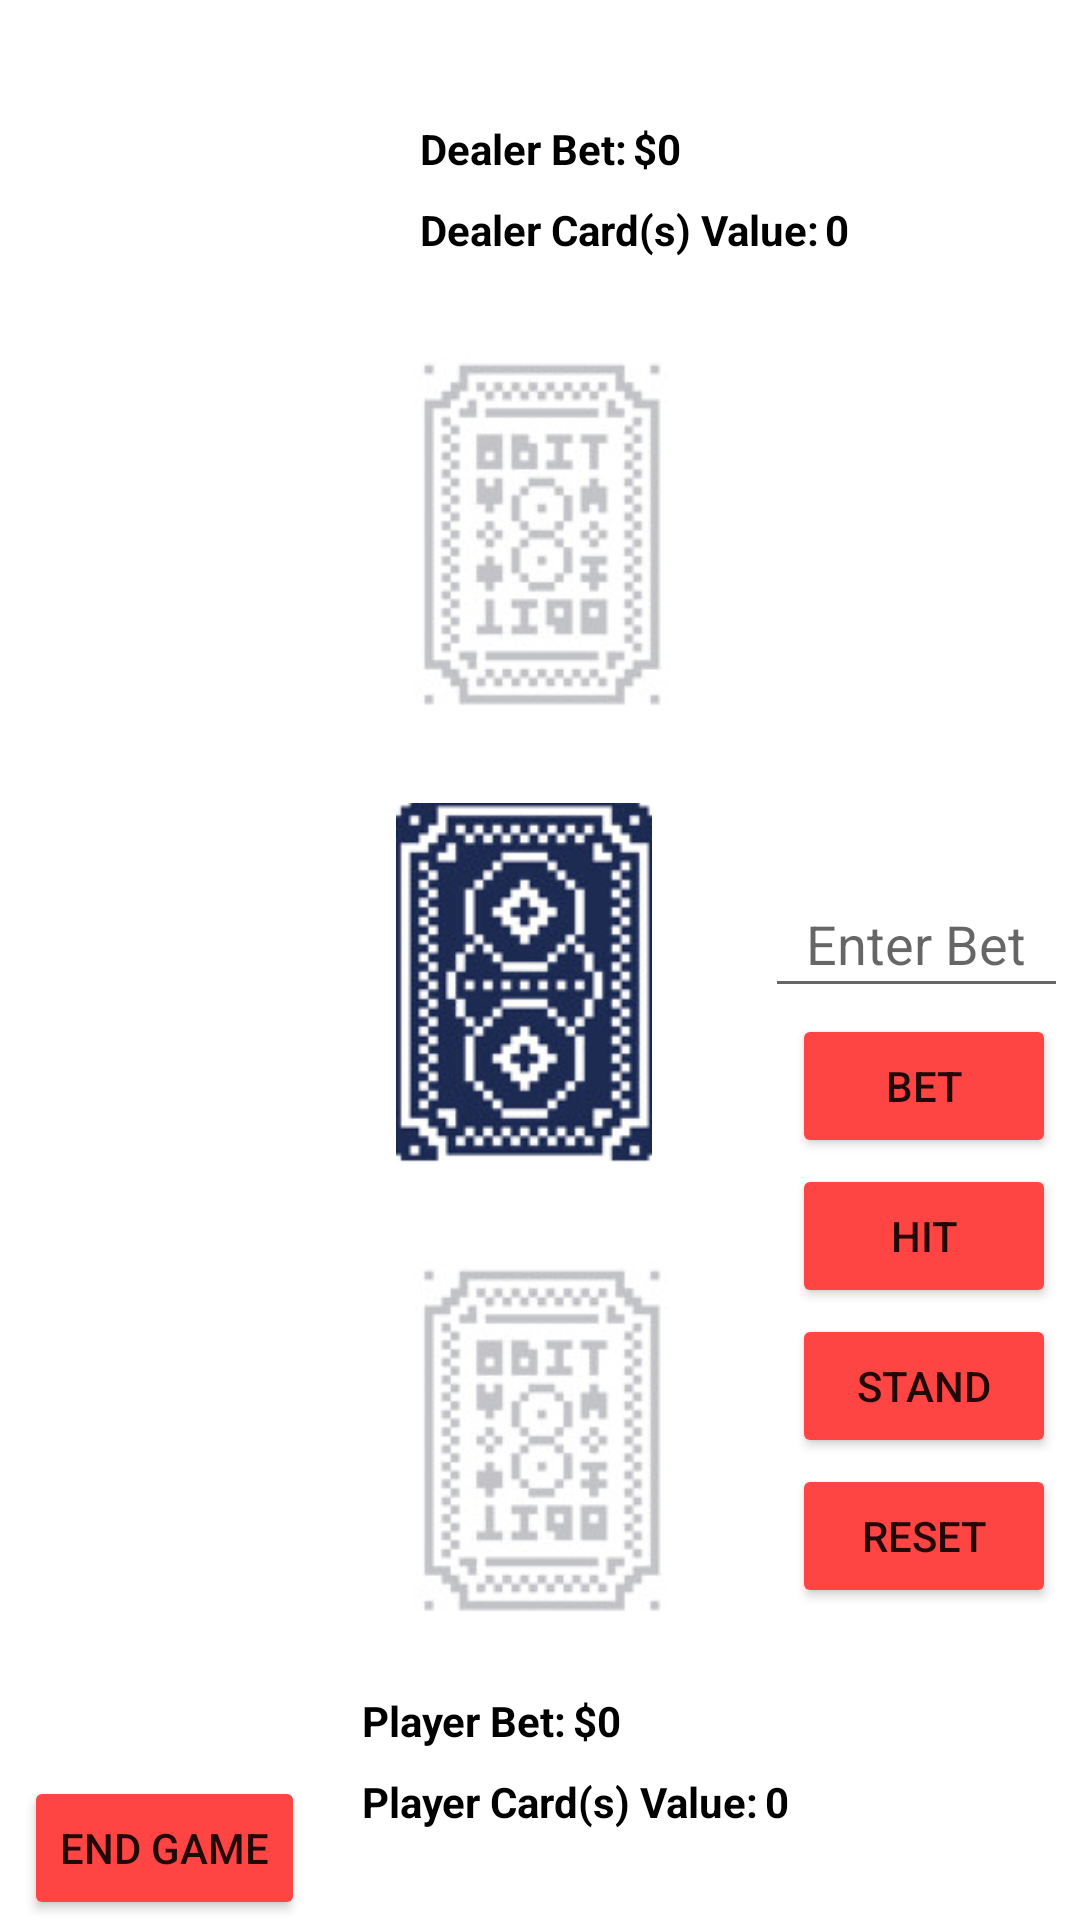

Named icons in this screenshot (1080x1920) and their bounding boxes, Rect(x1, y1, x2, y2):
deck pile: Rect(396, 803, 652, 1161)
